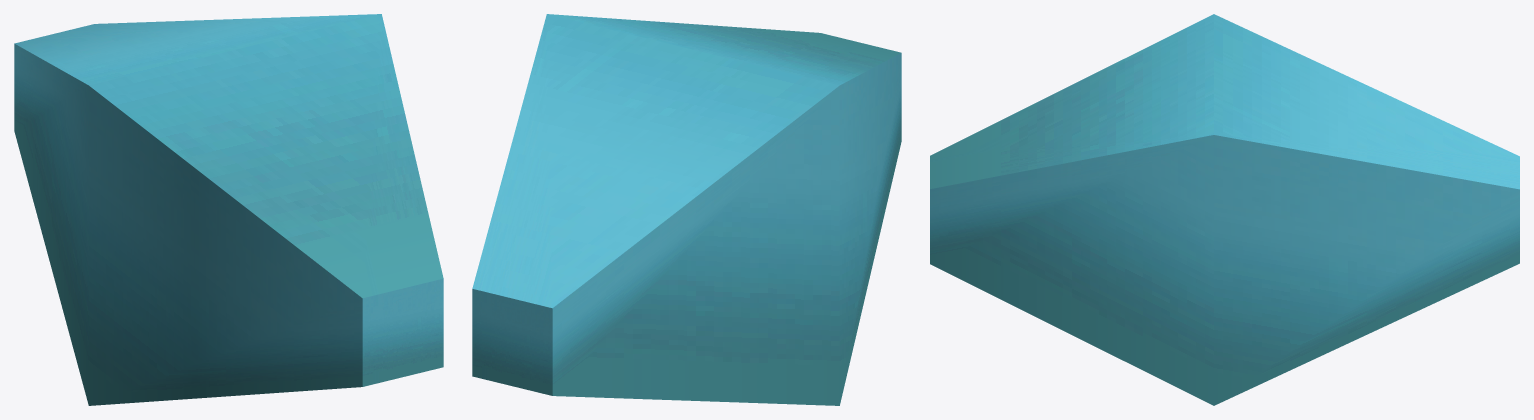
Rendered from IceSpike.FBX.
The picture shows the model from 3 angles, left to right: view 1: azimuth 30°, elevation 25°; view 2: azimuth 150°, elevation 25°; view 3: azimuth 270°, elevation 25°; orthographic projection. The views are drawn at different scales.
Parts seen in each view (by area): view 1: Box01; view 2: Box01; view 3: Box01.
Boxes of the visible parts, x1,y1,x2,y2 form: Box01: (14,14,443,405); Box01: (472,14,901,405); Box01: (930,14,1519,405).
Bounding box in the file's own units: 12.8 × 13.38 × 26.38.
Materials: 1 (1 with a texture image).
